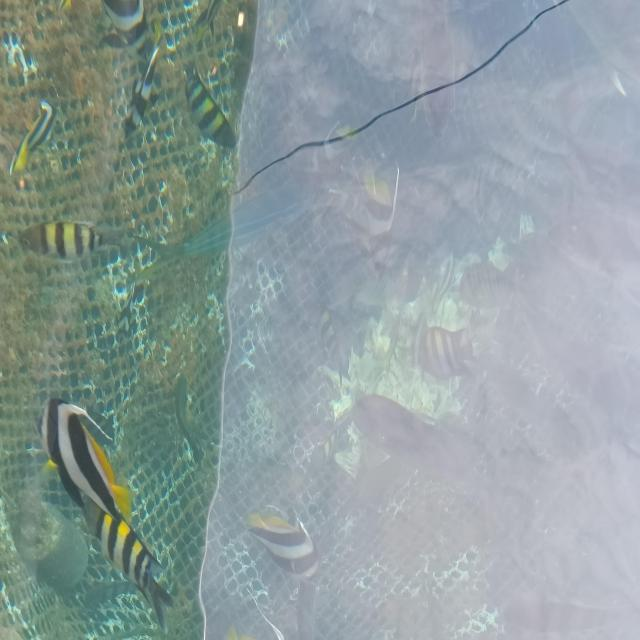ikan: (35, 396, 134, 530), (93, 500, 174, 634), (245, 506, 320, 581), (411, 306, 483, 383), (182, 62, 237, 150), (16, 218, 105, 260), (8, 99, 55, 176), (121, 44, 161, 134), (457, 258, 515, 311), (100, 0, 148, 50)
